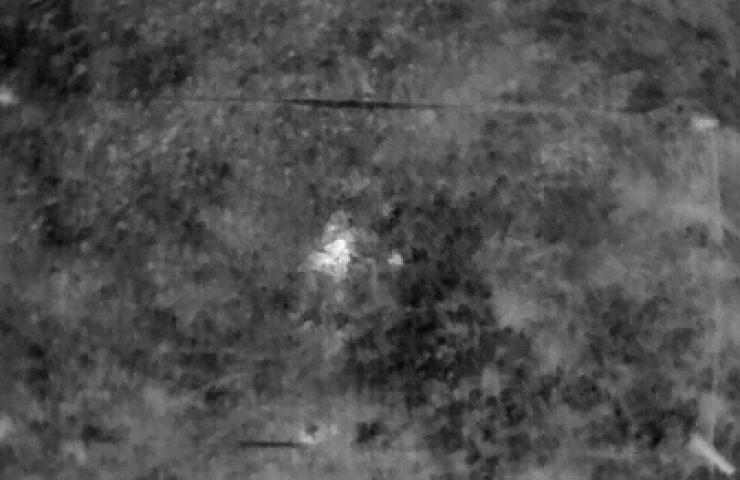landmines: (307, 214, 359, 279)
